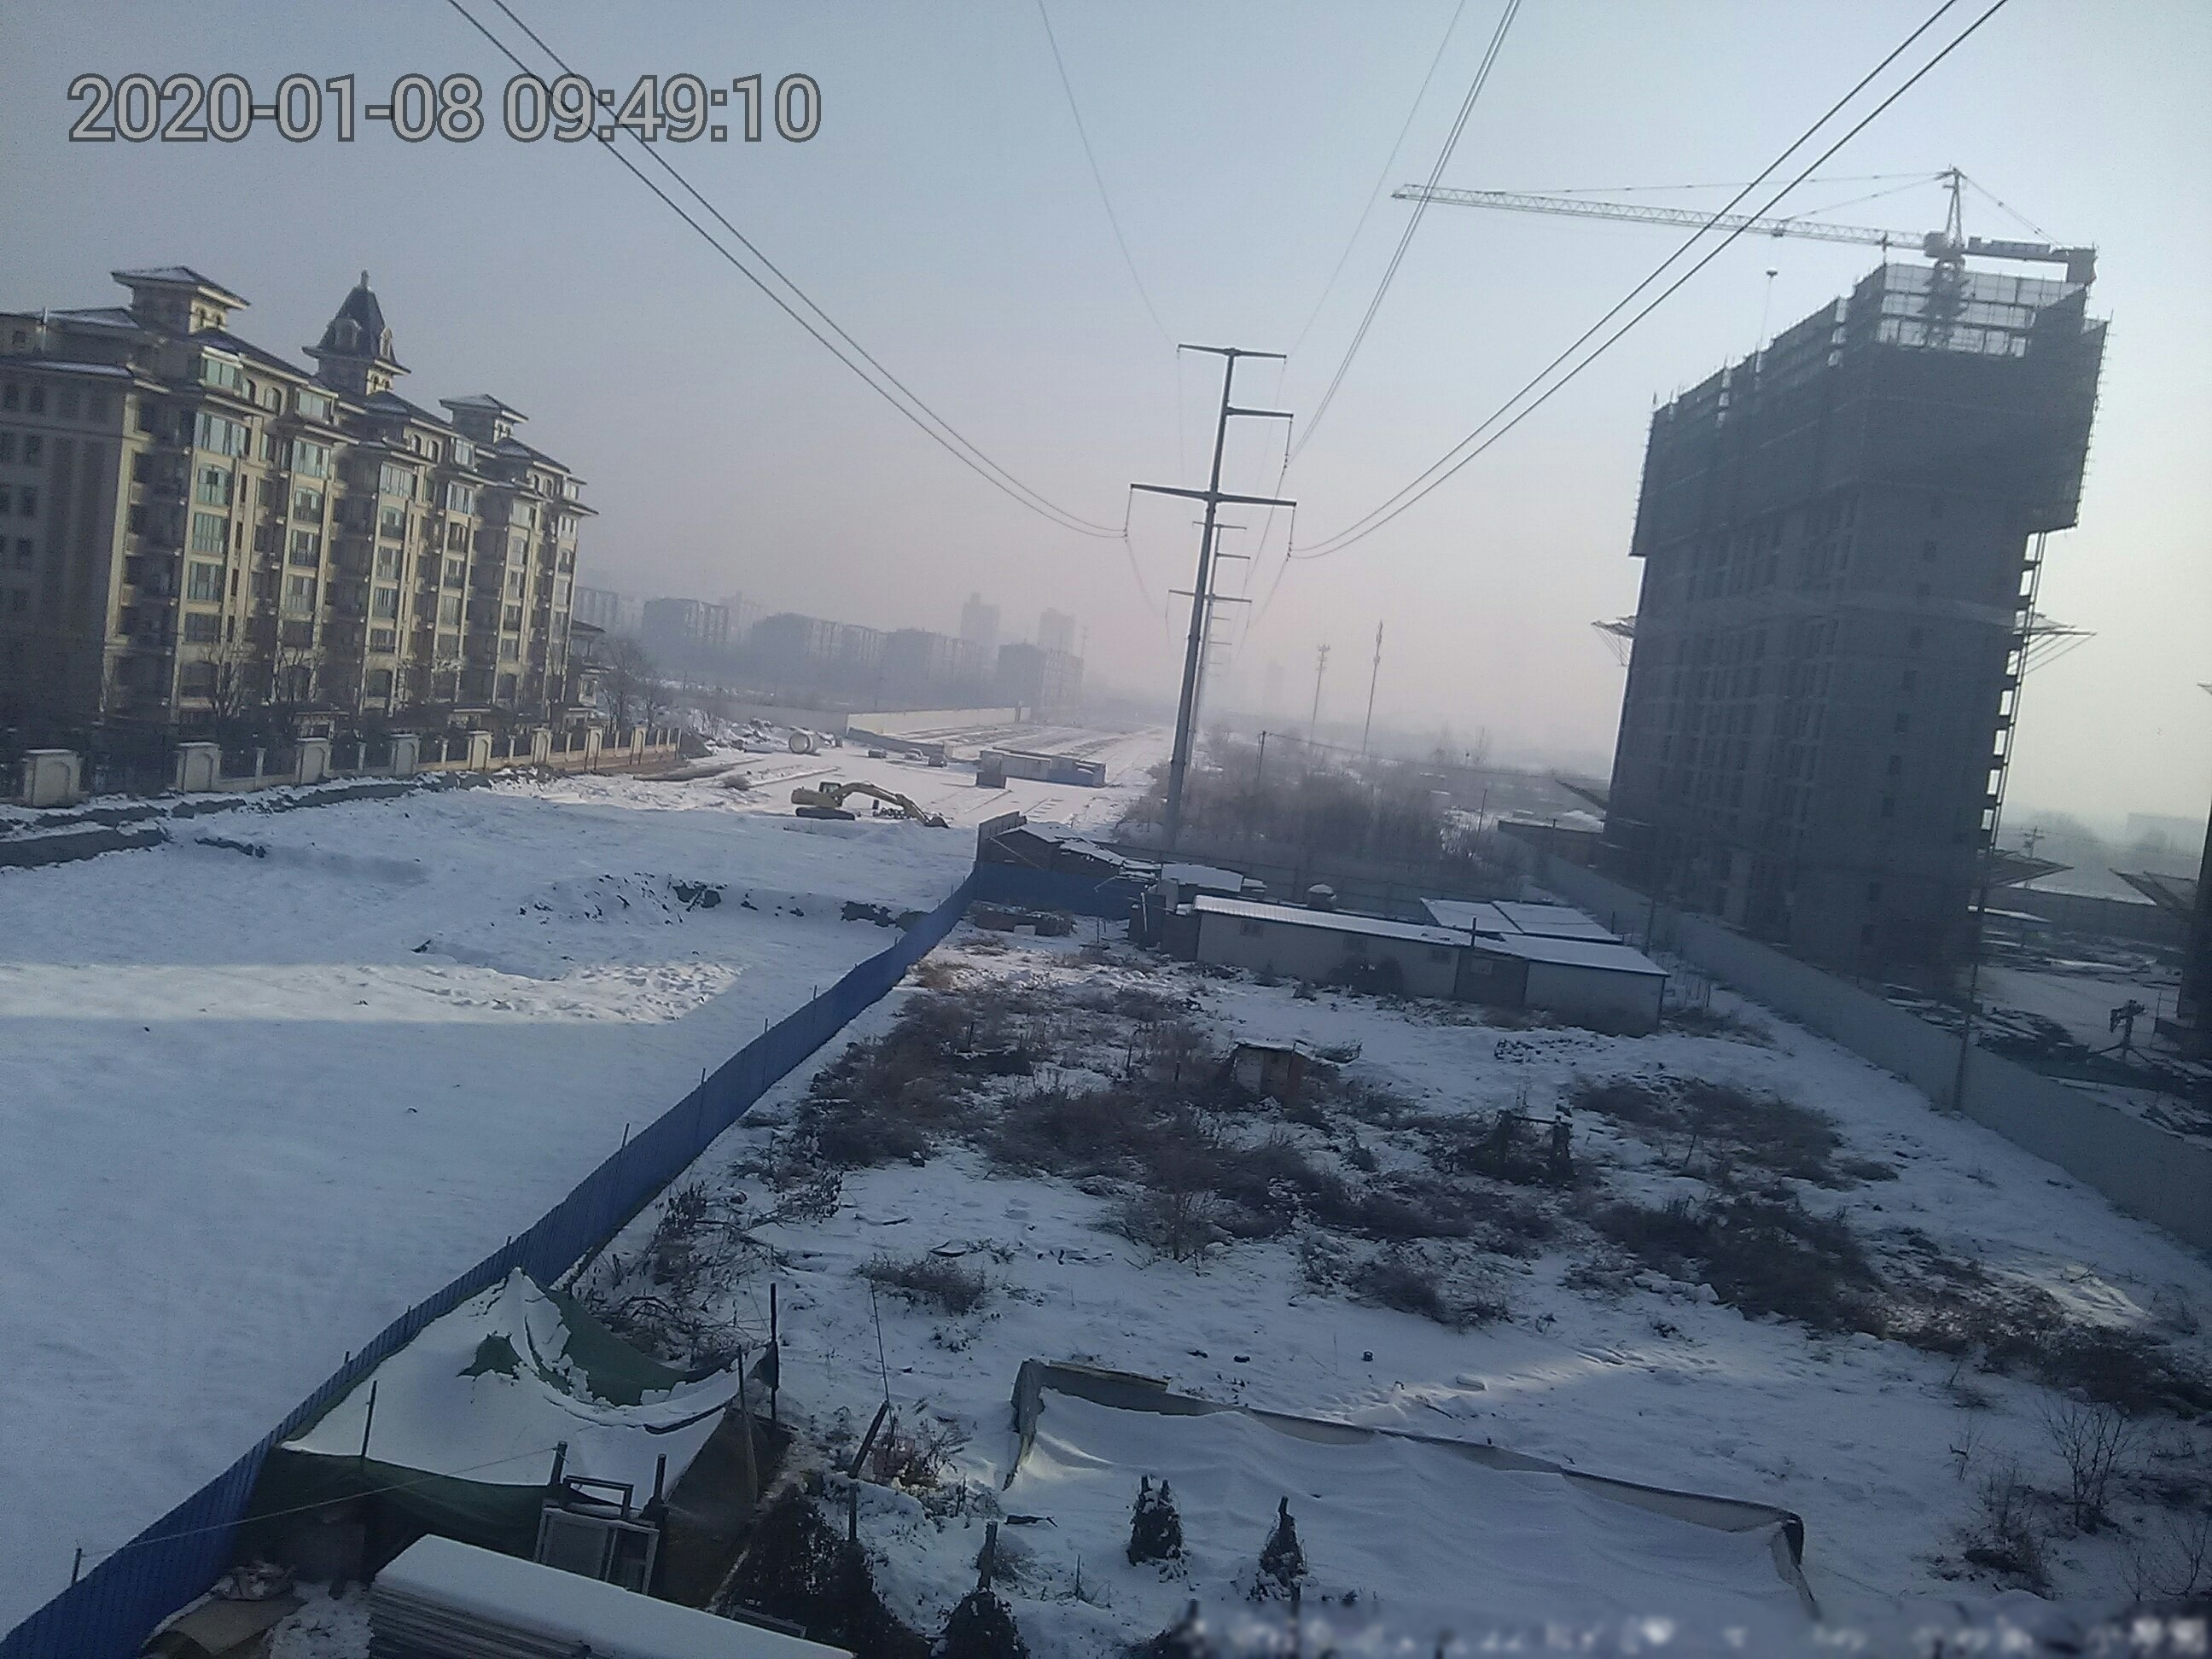gouche: (786, 772, 965, 838)
tadiao: (1390, 173, 2107, 284)
